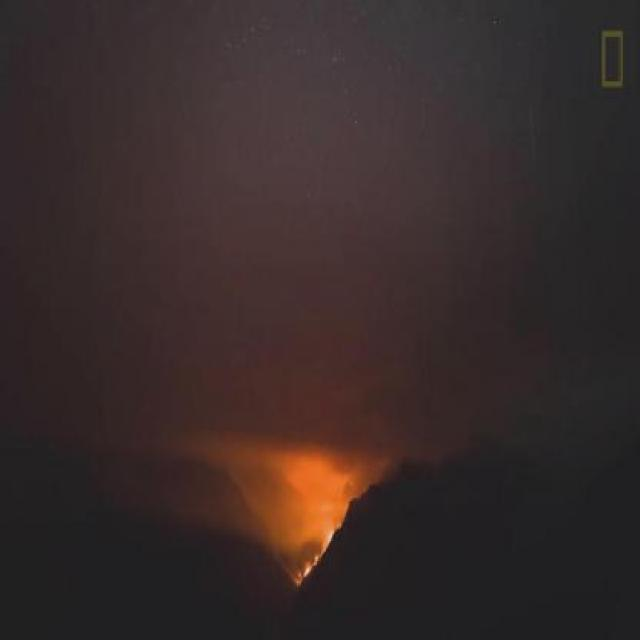Fire: (294, 528, 336, 584), (302, 478, 346, 528)
